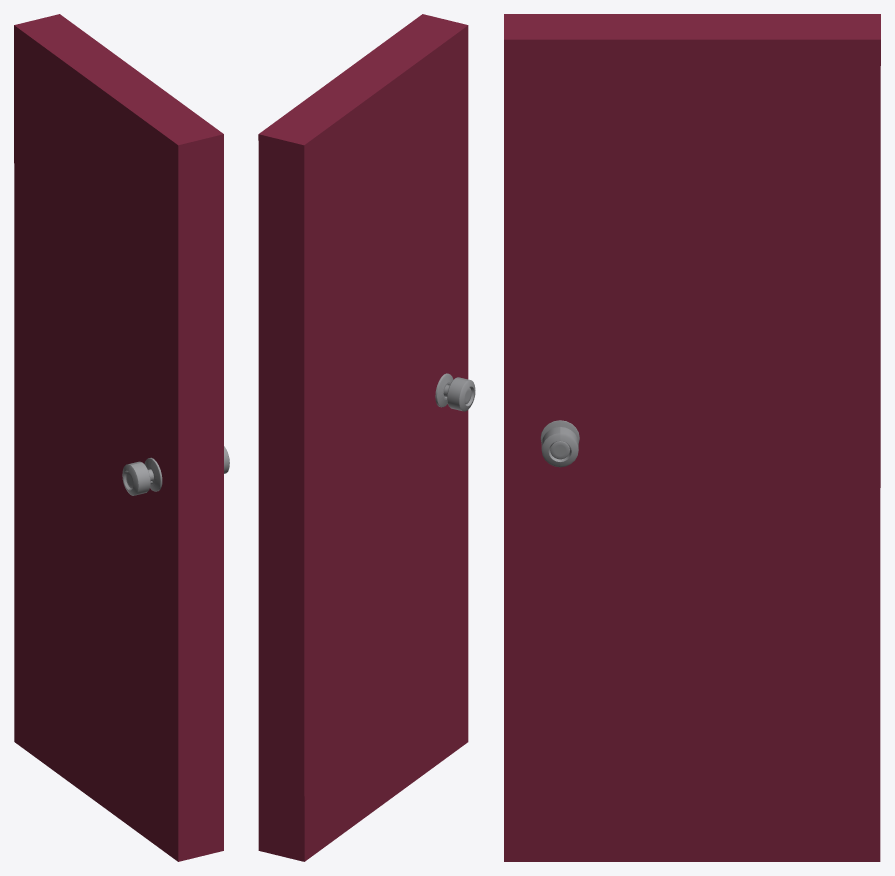
File: puerta.obj
3 views of the same model, side by side, from view 1: azimuth 30°, elevation 25°; view 2: azimuth 150°, elevation 25°; view 3: azimuth 270°, elevation 25° (orthographic). The views are drawn at different scales.
Parts seen in each view (by area): view 1: puerta:pasted__pasted__group17_pasted__pasted__pasted__pCube3; view 2: puerta:pasted__pasted__group17_pasted__pasted__pasted__pCube3; view 3: puerta:pasted__pasted__group17_pasted__pasted__pasted__pCube3.
Part boxes in pixels (x1,y1,x2,y2): puerta:pasted__pasted__group17_pasted__pasted__pasted__pCube3: [14, 14, 229, 861]; puerta:pasted__pasted__group17_pasted__pasted__pasted__pCube3: [258, 14, 475, 861]; puerta:pasted__pasted__group17_pasted__pasted__pasted__pCube3: [504, 14, 880, 861].
Size of the model in its own units: 1.08 by 7.77 by 3.22.
